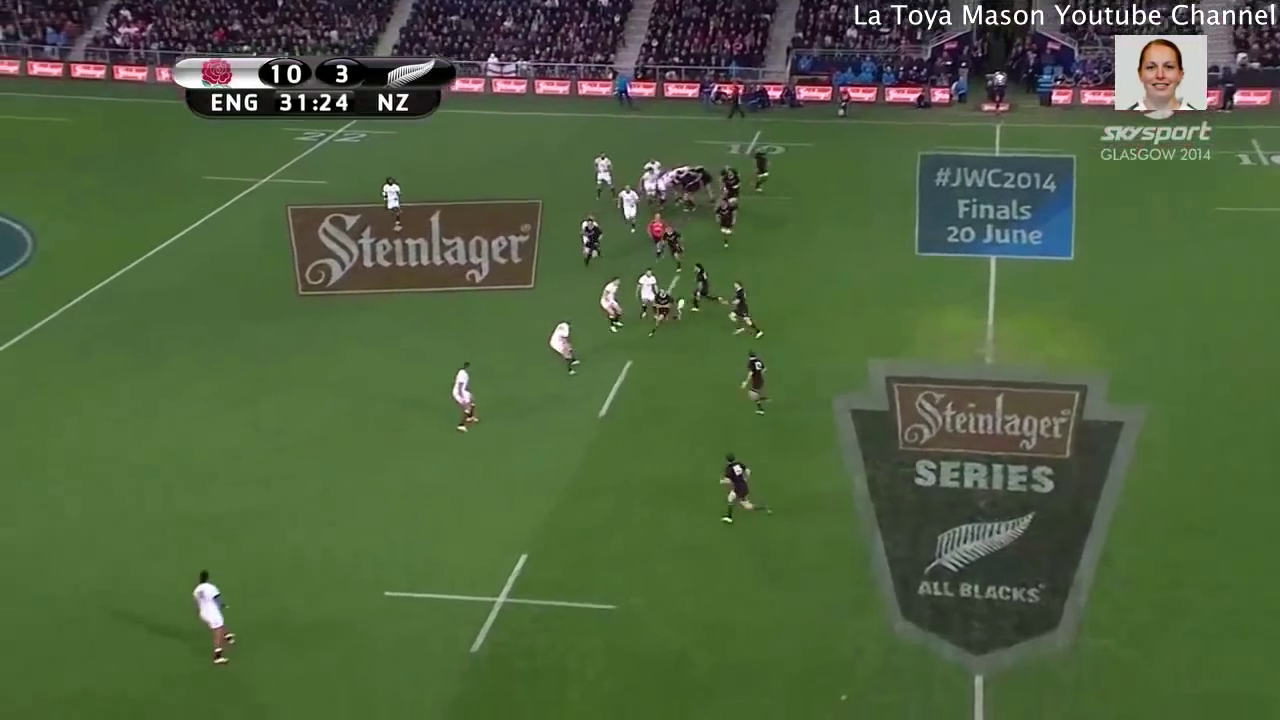10_metre: (374, 547, 629, 661), (690, 127, 815, 160), (1211, 136, 1280, 171)
ball: (675, 298, 688, 312)
maul: (640, 159, 719, 215)
player: (187, 564, 246, 668), (712, 450, 777, 528), (732, 346, 776, 415), (722, 276, 766, 341), (448, 356, 485, 432), (545, 316, 581, 380), (686, 259, 725, 316), (377, 172, 411, 226), (599, 276, 627, 334), (648, 287, 674, 338), (661, 222, 686, 274), (593, 149, 618, 200), (637, 266, 660, 320), (616, 184, 640, 234), (748, 149, 772, 195), (645, 211, 666, 263), (715, 195, 735, 249), (637, 167, 658, 208), (697, 168, 717, 203), (720, 167, 744, 193), (642, 157, 660, 174)
